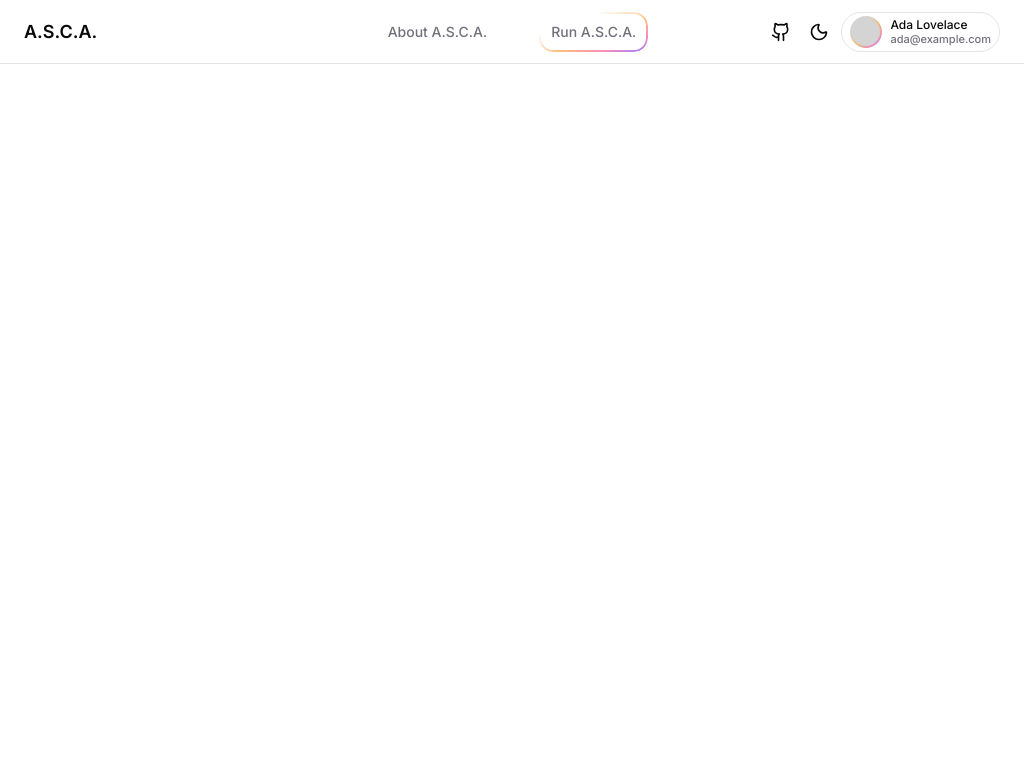
Test: AppHeader authentication › shows authenticated profile details instead of the sign-in link
The width and height of the screenshot is (1024, 768).
Expected: the text "Ada Lovelace" is shown, [890,17,968,33]
Expected: the text "ada@example.com" is shown, [890,33,991,46]
Click the button with aria-label "Account menu for Ada Lovelace" at (921, 32), box [841,12,1000,52]
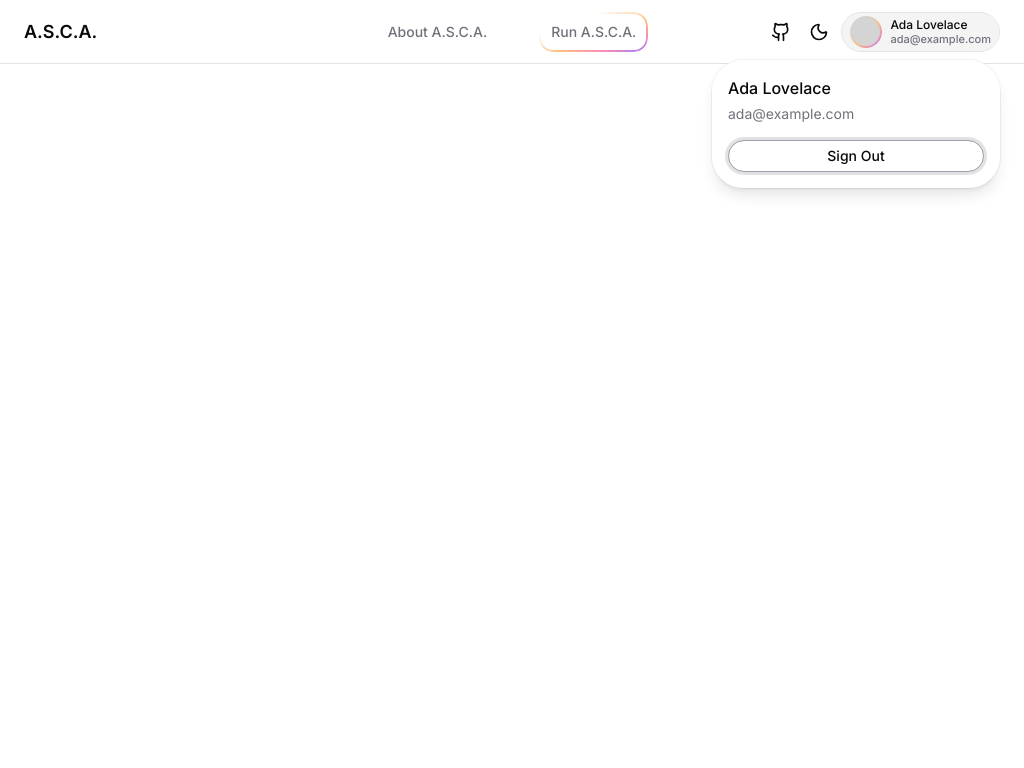
Now the 2nd text "ada@example.com" is shown, box [728,105,854,122]
Now the button "Sign Out" is shown, box [728,140,984,172]
